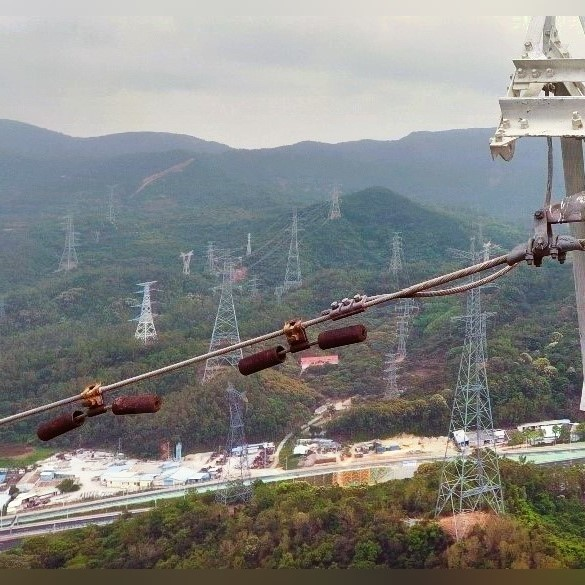Shockproof hammer: (29, 370, 169, 453), (233, 307, 374, 382)
